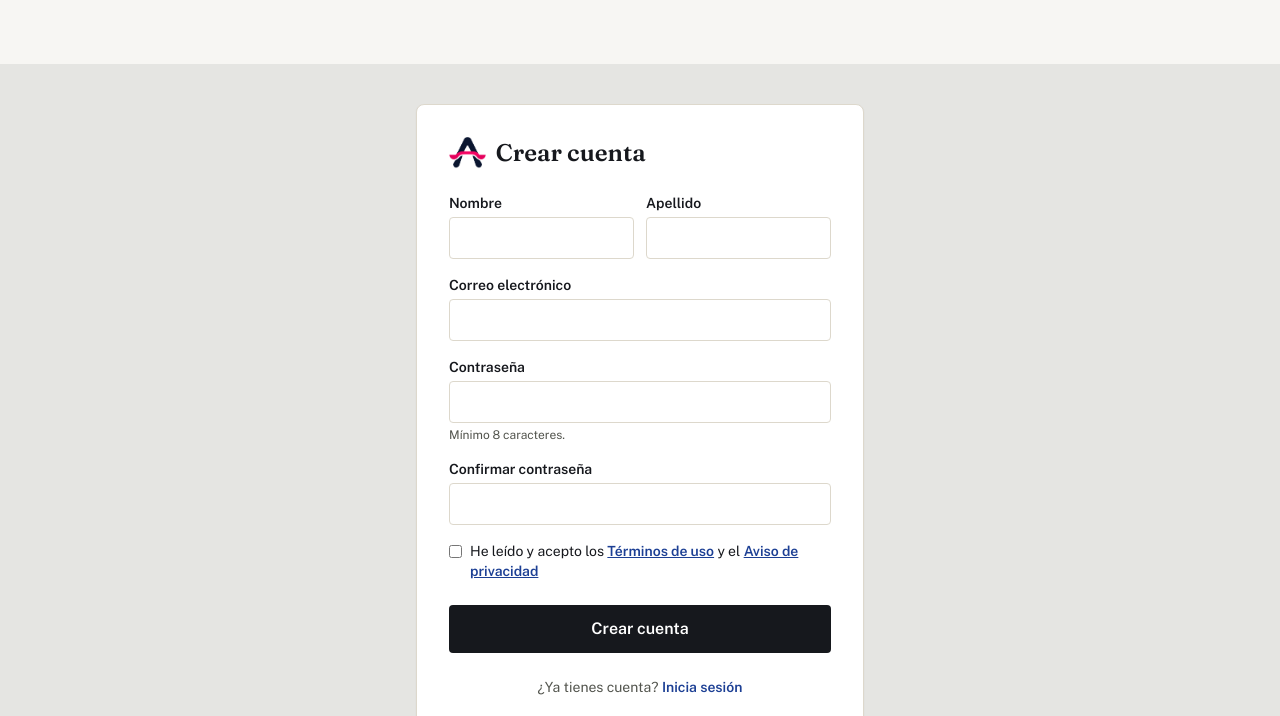
Scenario: el checkbox de términos es obligatorio y muestra un error accesible
This screenshot has width=1280, height=716.
Type "Ana" into the field labelled "Nombre" at (542, 238), box [449,217,634,259]
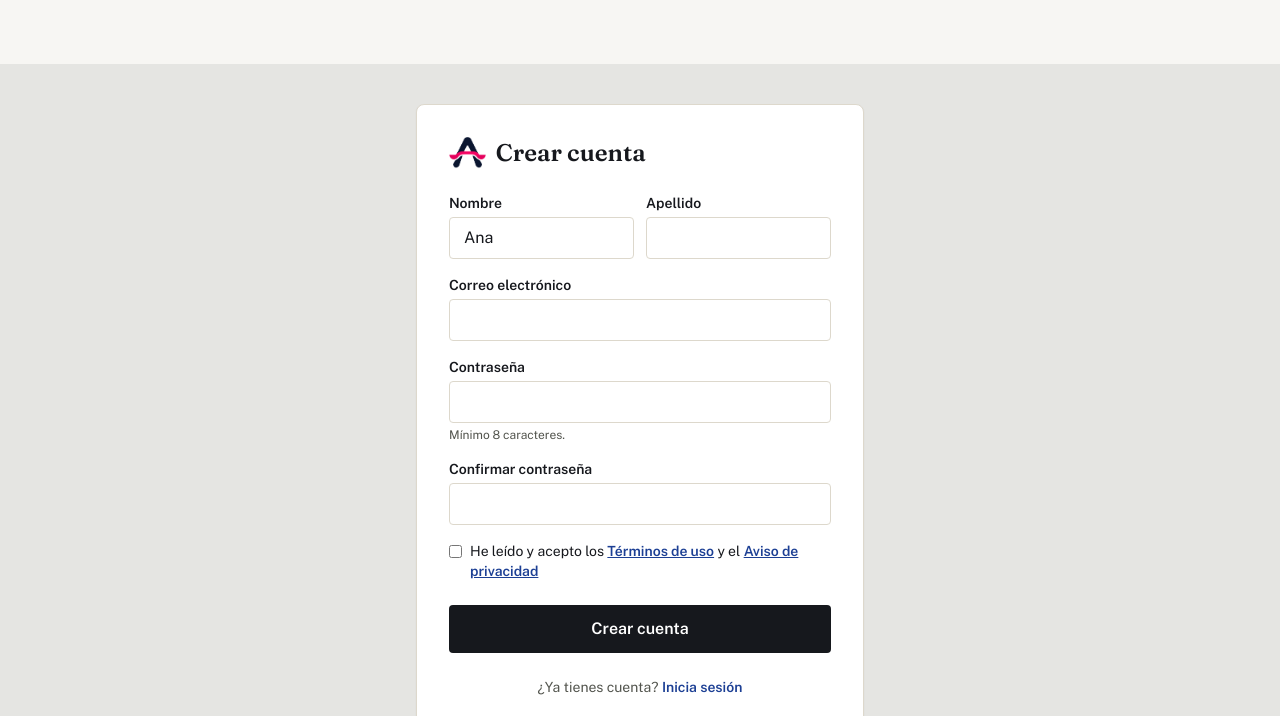
Type "Pérez" into the field labelled "Apellido" at (738, 238), box [646,217,831,259]
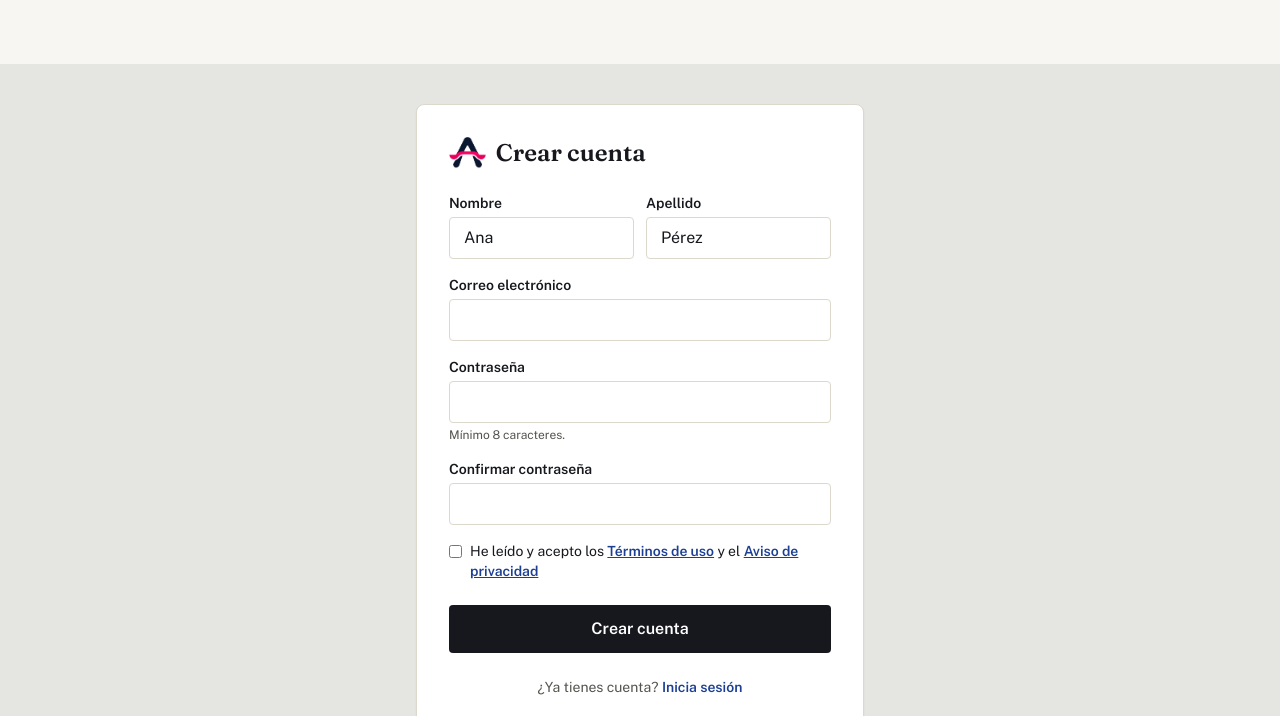
Type "ana@correo.com" into the field labelled "Correo electrónico" at (640, 320), box [449,299,831,341]
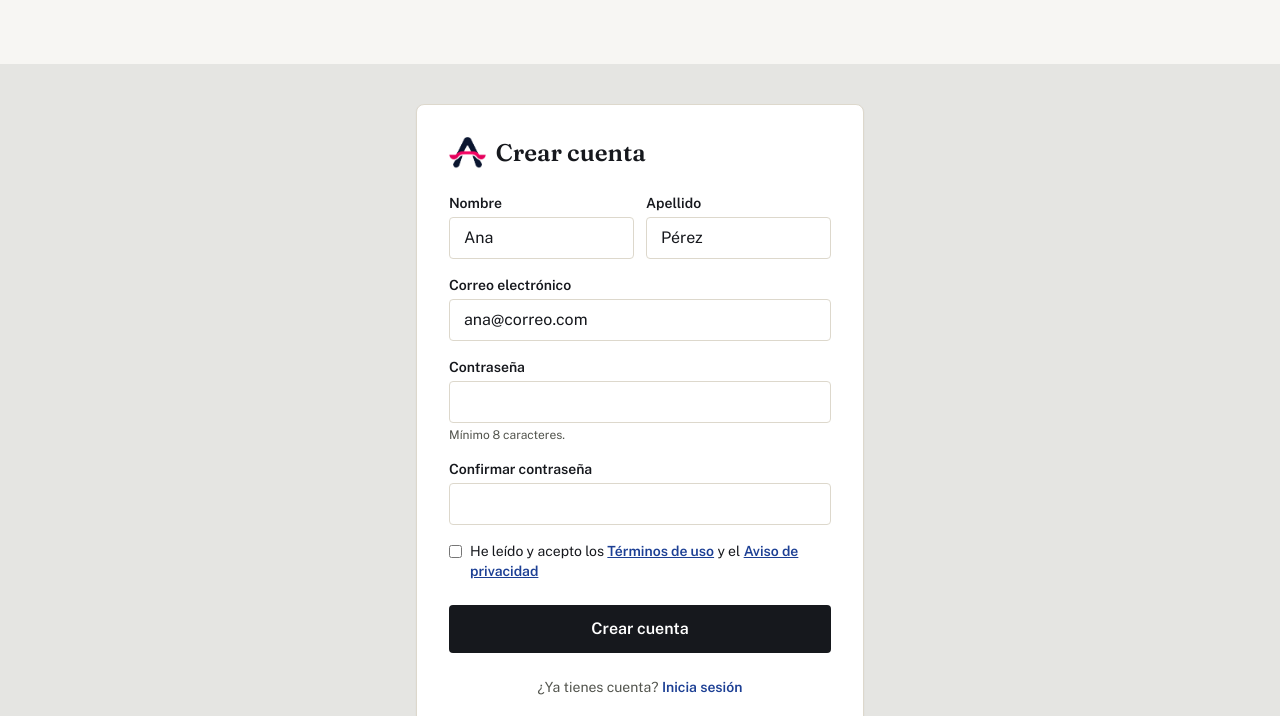
Type "secreta123" into the password field labelled "Contraseña" at (640, 402), box [449,381,831,423]
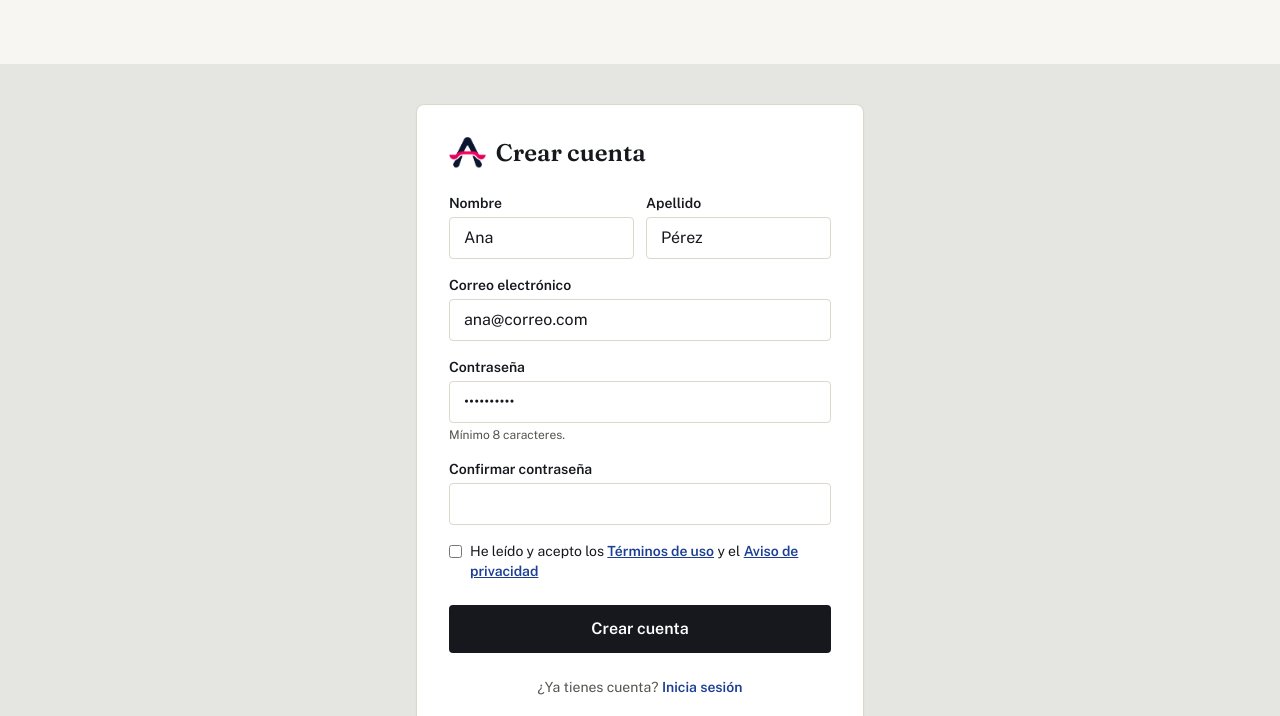
Type "secreta123" into the password field labelled "Confirmar contraseña" at (640, 504), box [449,483,831,525]
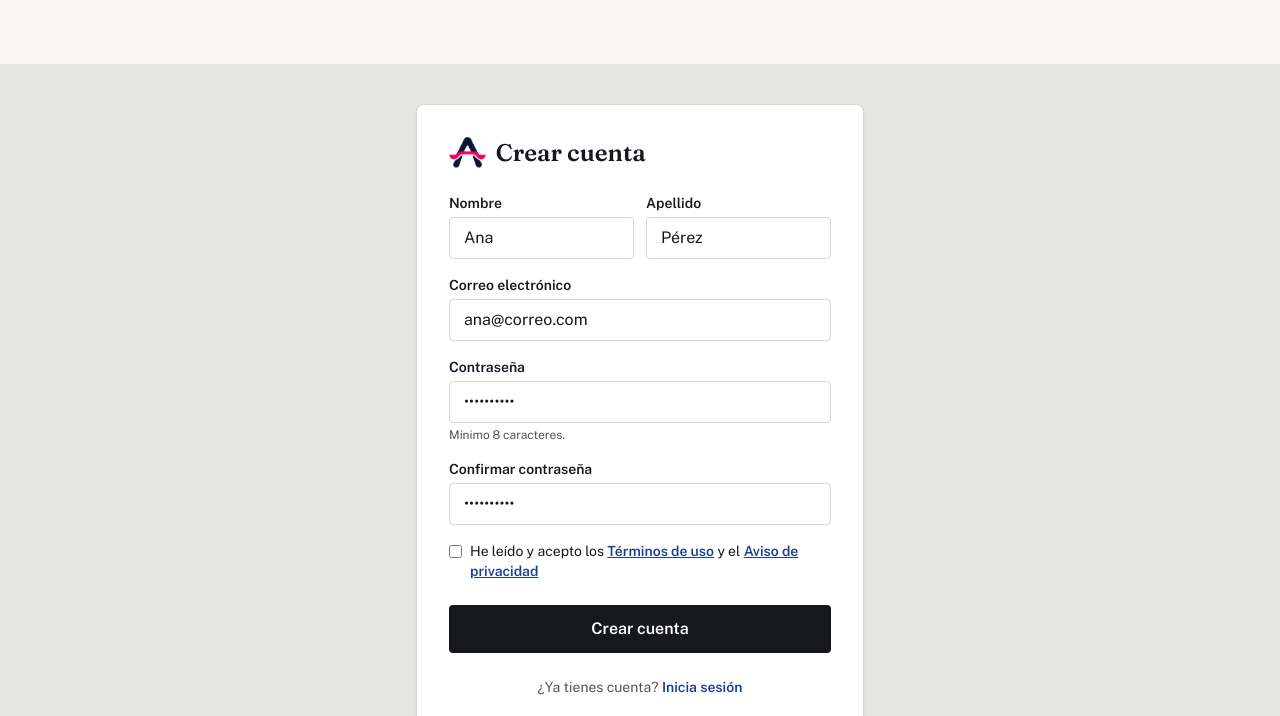
Submit the form named "Crear cuenta", box [449,193,831,653]
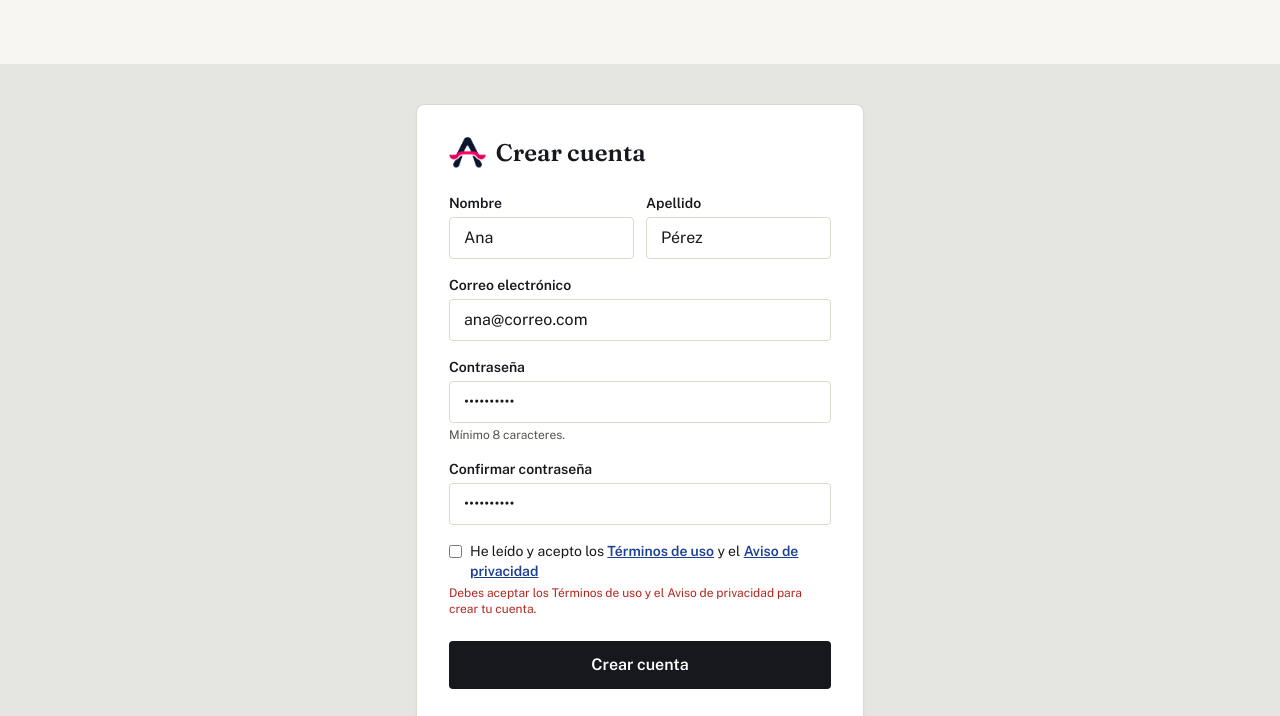
Now the message shows "aceptar los Términos de uso", box [449,586,802,616]
